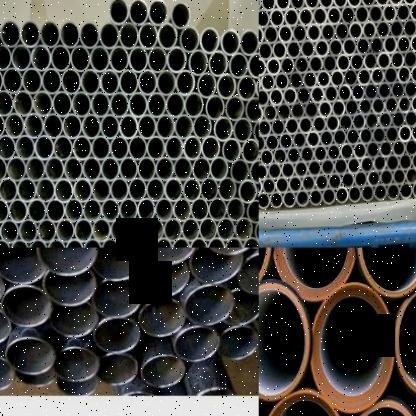pipe: (312, 282, 395, 413), (258, 279, 312, 403), (271, 248, 356, 302), (355, 248, 416, 298), (394, 280, 416, 398), (259, 391, 348, 416), (1, 285, 52, 327), (184, 285, 235, 326), (136, 261, 190, 298), (43, 270, 97, 307), (188, 248, 242, 283), (92, 280, 142, 317), (5, 338, 55, 375), (139, 298, 185, 338), (91, 248, 144, 281), (50, 302, 98, 338), (0, 248, 47, 284), (173, 326, 220, 362), (38, 248, 98, 276), (93, 318, 140, 353), (55, 347, 99, 382), (347, 394, 416, 416), (141, 355, 184, 388), (222, 288, 259, 326), (218, 327, 259, 360), (97, 354, 138, 386), (237, 252, 259, 294), (142, 248, 198, 264), (0, 18, 21, 48), (157, 22, 179, 50), (20, 19, 41, 48), (169, 1, 191, 28), (178, 25, 200, 52), (13, 89, 34, 117), (99, 21, 120, 49), (199, 26, 220, 54), (166, 46, 187, 74), (228, 51, 249, 79), (138, 21, 158, 50), (32, 90, 53, 117), (11, 44, 32, 71), (188, 49, 209, 76), (2, 67, 23, 94), (22, 67, 43, 94), (41, 67, 62, 94), (80, 68, 101, 95), (175, 69, 196, 96), (196, 71, 217, 98), (236, 74, 257, 101), (40, 20, 60, 48), (60, 20, 80, 48), (119, 21, 139, 49), (51, 44, 71, 72), (109, 45, 129, 73), (61, 67, 81, 95), (119, 68, 139, 96), (71, 91, 92, 117), (204, 94, 225, 120), (224, 95, 245, 121), (43, 113, 64, 139), (220, 29, 241, 55), (216, 73, 237, 99), (128, 91, 148, 118), (109, 91, 129, 118), (147, 91, 167, 118), (100, 113, 120, 140), (80, 21, 100, 48), (239, 28, 259, 55), (31, 44, 51, 71), (70, 45, 90, 72), (90, 45, 110, 72), (208, 50, 228, 77), (138, 68, 157, 96), (221, 137, 242, 162), (229, 158, 250, 183), (127, 0, 148, 25), (52, 91, 72, 117), (165, 92, 185, 118), (184, 92, 204, 118), (62, 113, 82, 139), (201, 135, 221, 161), (128, 135, 148, 161), (82, 156, 102, 182), (54, 177, 74, 203), (64, 197, 84, 223), (37, 218, 57, 244), (5, 112, 24, 139), (24, 112, 43, 139), (129, 46, 148, 73), (148, 46, 167, 73), (100, 68, 119, 95), (157, 69, 176, 96), (0, 355, 14, 391), (174, 114, 194, 139), (137, 114, 157, 139), (119, 114, 139, 139), (34, 135, 54, 160), (72, 135, 92, 160), (183, 135, 203, 160), (109, 135, 129, 160), (173, 156, 193, 181), (17, 177, 37, 202), (226, 197, 246, 222), (27, 198, 47, 223), (148, 0, 168, 25), (91, 91, 110, 117), (193, 114, 212, 140), (16, 134, 35, 160), (192, 156, 211, 182), (45, 156, 64, 182), (26, 156, 45, 182), (7, 156, 26, 182), (119, 156, 138, 182), (101, 156, 120, 182), (64, 156, 83, 182), (164, 176, 183, 202), (146, 176, 165, 202), (128, 176, 147, 202), (83, 197, 102, 223), (19, 218, 38, 244), (0, 218, 19, 244), (213, 117, 233, 141), (218, 177, 238, 201), (82, 114, 101, 139), (156, 114, 175, 139), (54, 135, 73, 160), (165, 135, 184, 160), (147, 135, 166, 160), (210, 156, 229, 181), (137, 156, 156, 181), (200, 176, 219, 201), (110, 177, 129, 202), (92, 177, 111, 202), (36, 177, 55, 202), (73, 177, 92, 202), (137, 197, 156, 222), (155, 197, 174, 222), (119, 197, 138, 222), (46, 198, 65, 223), (9, 198, 28, 223), (128, 217, 147, 242), (74, 218, 93, 243), (56, 218, 75, 243), (183, 176, 201, 202), (0, 176, 17, 203), (233, 118, 252, 142), (240, 138, 259, 162), (238, 179, 257, 203), (208, 197, 227, 221), (101, 198, 120, 222), (110, 218, 129, 242), (92, 218, 111, 242), (108, 0, 127, 24), (92, 135, 110, 160), (156, 156, 174, 181), (173, 197, 191, 222), (199, 217, 217, 242), (146, 217, 164, 242), (182, 217, 200, 242), (164, 217, 182, 242), (191, 197, 209, 221), (217, 217, 235, 241), (0, 306, 11, 345), (235, 218, 253, 241), (0, 134, 15, 160), (244, 96, 258, 122), (298, 5, 314, 27), (0, 89, 13, 116), (300, 38, 316, 59), (266, 56, 282, 77), (334, 21, 350, 41), (322, 53, 338, 73), (341, 4, 356, 25), (278, 23, 293, 44), (280, 55, 295, 76), (302, 70, 318, 89), (396, 2, 411, 22), (327, 5, 342, 25), (286, 39, 301, 59), (272, 40, 287, 60), (306, 130, 321, 150), (245, 199, 258, 222), (0, 44, 11, 71), (382, 2, 396, 23), (369, 3, 383, 24), (376, 19, 390, 40), (349, 20, 363, 41), (307, 22, 321, 43), (383, 34, 397, 55), (315, 37, 329, 58), (247, 52, 258, 78), (344, 98, 359, 117), (291, 102, 306, 121), (346, 127, 361, 146), (292, 131, 307, 150), (294, 160, 309, 179), (301, 174, 316, 193), (282, 190, 297, 209), (355, 4, 369, 24), (314, 6, 328, 26), (284, 8, 298, 28), (270, 8, 284, 28), (363, 20, 377, 40), (321, 22, 335, 42), (293, 23, 307, 43), (397, 34, 411, 54), (370, 35, 384, 55), (329, 37, 343, 57), (364, 51, 378, 71), (309, 54, 323, 74), (384, 65, 398, 85), (371, 66, 385, 86), (330, 68, 344, 88), (275, 71, 289, 91), (378, 81, 392, 101), (351, 82, 365, 102), (298, 86, 312, 106), (283, 87, 297, 107), (269, 87, 283, 107), (332, 98, 346, 118), (318, 99, 332, 119), (304, 100, 318, 120), (263, 103, 277, 123), (298, 116, 312, 136), (372, 125, 386, 145), (360, 126, 374, 146), (320, 129, 334, 149), (265, 133, 279, 153), (260, 148, 274, 168), (328, 171, 342, 191), (384, 96, 399, 114), (358, 98, 373, 116), (320, 158, 335, 176), (379, 168, 394, 186), (390, 19, 404, 38), (264, 25, 278, 44), (356, 36, 370, 55), (342, 37, 356, 56), (390, 50, 404, 69), (377, 51, 391, 70), (350, 52, 364, 71), (336, 53, 350, 72), (295, 55, 309, 74), (398, 65, 412, 84), (358, 67, 372, 86), (344, 68, 358, 87), (316, 69, 330, 88), (289, 71, 303, 90), (261, 73, 275, 92), (364, 82, 378, 101), (338, 84, 352, 103), (324, 84, 338, 103), (310, 85, 324, 104), (372, 96, 386, 115), (277, 102, 291, 121), (339, 113, 353, 132), (326, 115, 340, 134), (312, 115, 326, 134), (285, 117, 299, 136), (272, 118, 286, 137), (333, 128, 347, 147), (279, 132, 293, 151), (392, 139, 406, 158), (340, 142, 354, 161), (300, 145, 314, 164), (287, 146, 301, 165), (334, 157, 348, 176), (354, 170, 368, 189), (262, 177, 276, 196), (386, 183, 400, 202), (374, 183, 388, 202), (296, 189, 310, 208), (403, 18, 416, 38), (259, 40, 272, 60), (366, 139, 379, 159), (386, 153, 399, 173), (361, 155, 374, 175), (348, 156, 361, 176), (348, 184, 361, 204), (390, 81, 404, 99), (398, 95, 412, 113), (392, 110, 406, 128), (378, 111, 392, 129), (352, 113, 366, 131), (366, 113, 380, 131), (326, 144, 340, 162), (314, 145, 328, 163), (273, 148, 287, 166), (399, 153, 413, 171), (308, 160, 322, 178), (281, 161, 295, 179), (268, 162, 282, 180), (392, 168, 406, 186), (314, 174, 328, 192), (275, 176, 289, 194), (288, 176, 302, 194), (309, 189, 323, 207), (270, 191, 284, 209), (399, 124, 412, 143), (367, 169, 380, 188), (322, 187, 335, 206), (380, 138, 392, 158), (354, 141, 366, 161), (362, 183, 374, 203), (259, 8, 270, 29), (171, 236, 190, 248), (154, 236, 173, 248), (404, 49, 416, 68), (404, 80, 416, 99), (404, 108, 416, 127), (259, 119, 271, 138), (386, 125, 398, 144), (374, 154, 386, 173), (342, 171, 354, 190), (400, 182, 412, 201), (336, 185, 348, 204), (249, 159, 258, 184), (207, 236, 225, 248), (405, 166, 416, 185), (190, 236, 207, 248), (259, 191, 271, 208), (0, 198, 8, 223), (28, 238, 48, 248), (10, 238, 30, 248), (259, 88, 269, 108), (405, 139, 416, 157), (226, 236, 242, 248), (242, 236, 258, 248), (0, 155, 7, 182), (83, 238, 102, 247), (259, 162, 268, 181), (261, 0, 276, 11), (119, 238, 137, 247), (65, 238, 83, 247), (48, 238, 66, 247), (137, 238, 154, 247), (259, 57, 267, 76), (252, 118, 258, 143), (275, 0, 290, 10), (102, 238, 118, 247), (304, 0, 320, 9), (290, 0, 304, 10), (318, 0, 333, 9), (259, 134, 266, 153), (0, 112, 5, 138), (410, 1, 416, 21), (410, 33, 416, 52), (410, 94, 416, 113), (360, 0, 376, 7), (347, 0, 361, 8), (333, 0, 347, 8), (0, 238, 11, 248), (410, 64, 416, 82), (259, 24, 264, 45), (259, 103, 264, 123), (376, 0, 390, 7), (254, 219, 258, 243), (411, 123, 416, 141), (411, 152, 416, 170), (388, 0, 402, 6), (0, 66, 3, 93), (403, 0, 416, 6), (412, 180, 416, 199), (259, 178, 263, 194)
